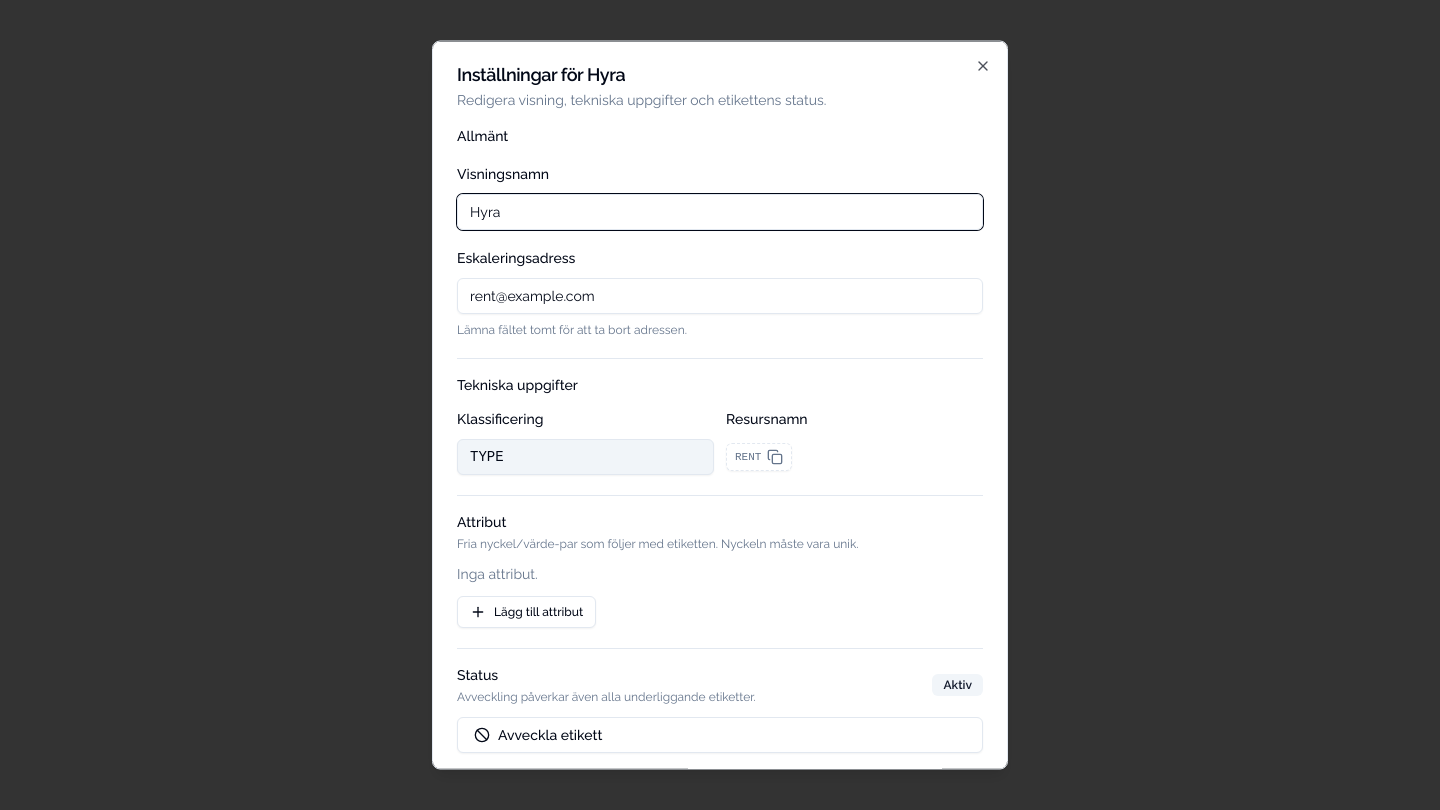
it: label settings UI › validates escalation email before saving
Replace the text in the field labelled "Eskaleringsadress" with "ogiltig": (720, 296) [457, 278, 983, 314]
(page scrolled)
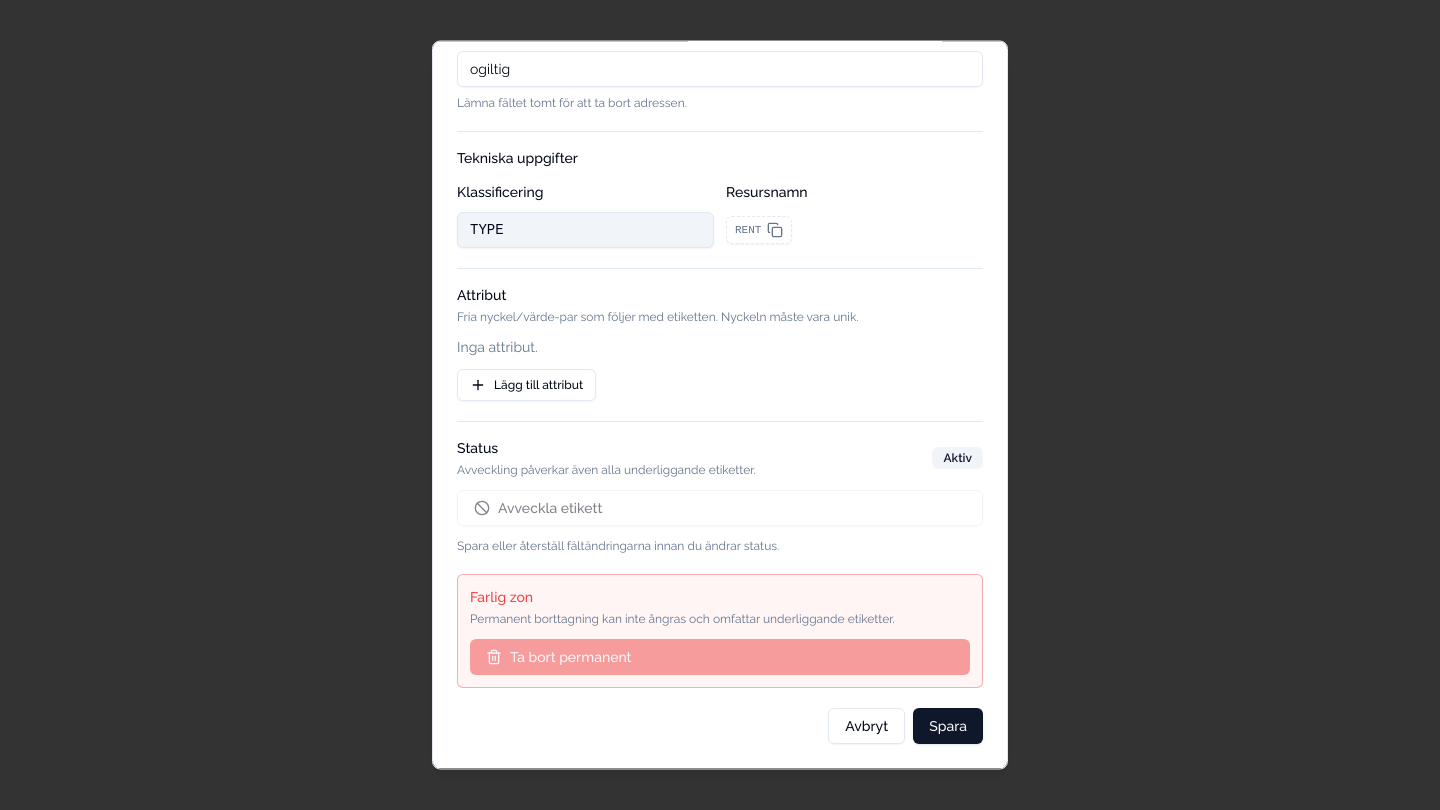
Click the button "Spara": (948, 726) [913, 708, 983, 744]
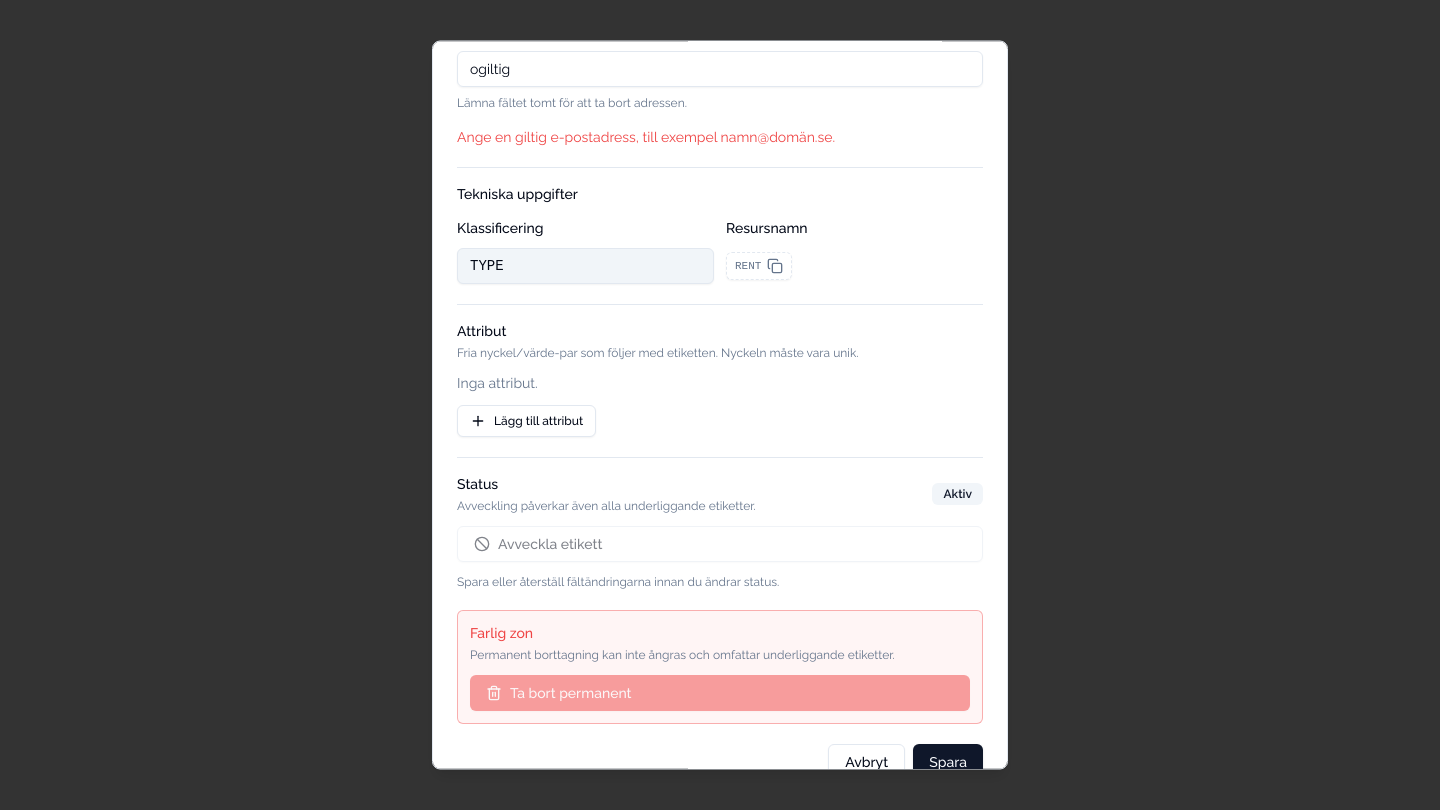
Check: the text "Ange en giltig e-postadress, till exempel namn@domän.se." is shown, box [457, 130, 835, 146]
